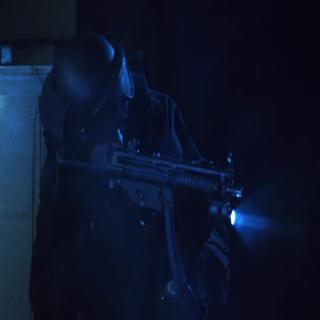gun: (52, 138, 247, 298)
